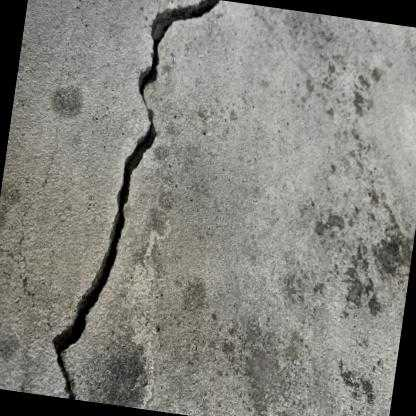crack: (49, 0, 226, 400)
